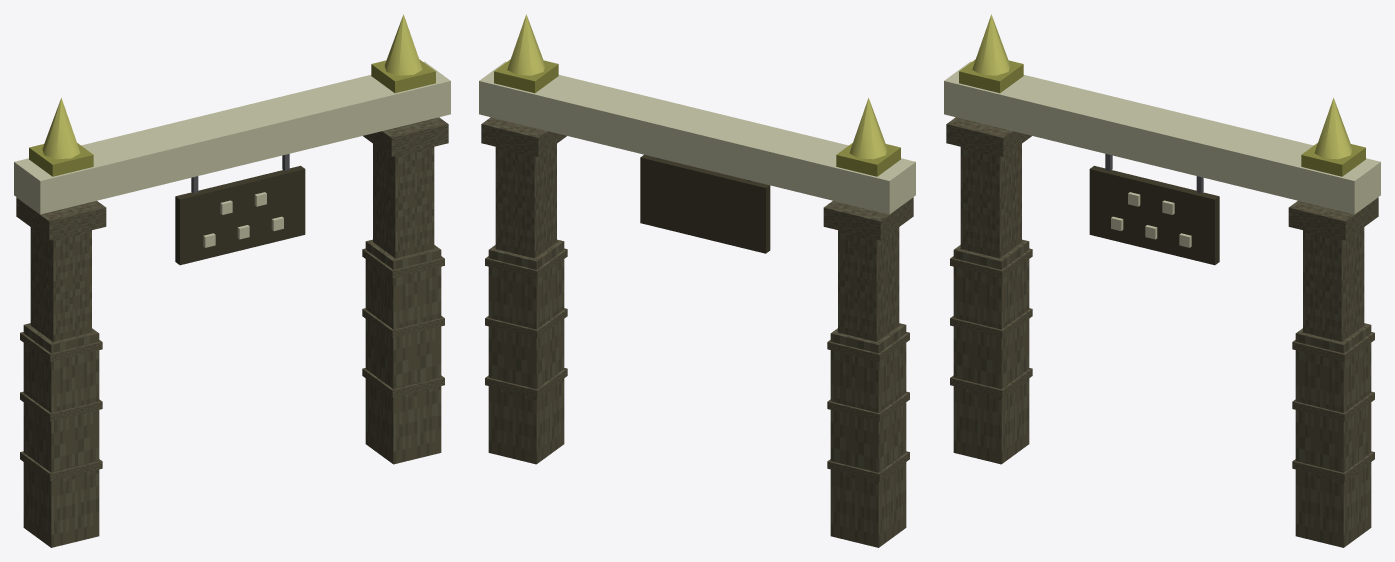
Rendered from village_gate.glb.
3 views of the same model, side by side, from view 1: azimuth 30°, elevation 25°; view 2: azimuth 150°, elevation 25°; view 3: azimuth 330°, elevation 25° (orthographic).
Parts seen in each view (by area): view 1: gate3_0, gate3_3, gate3_4, gate3_2, gate3_1; view 2: gate3_0, gate3_3, gate3_4, gate3_2, gate3_1; view 3: gate3_0, gate3_3, gate3_4, gate3_2, gate3_1.
Part boxes in pixels (left/top/right/bottom): gate3_0: left=16, top=117, right=448, bottom=547; gate3_3: left=14, top=61, right=450, bottom=247; gate3_4: left=175, top=165, right=305, bottom=265; gate3_2: left=42, top=14, right=422, bottom=159; gate3_1: left=29, top=59, right=435, bottom=176; gate3_0: left=481, top=117, right=913, bottom=547; gate3_3: left=479, top=61, right=915, bottom=214; gate3_4: left=640, top=154, right=770, bottom=253; gate3_2: left=507, top=14, right=887, bottom=159; gate3_1: left=494, top=59, right=900, bottom=176; gate3_0: left=946, top=117, right=1378, bottom=547; gate3_3: left=944, top=61, right=1380, bottom=247; gate3_4: left=1089, top=165, right=1219, bottom=265; gate3_2: left=972, top=14, right=1352, bottom=159; gate3_1: left=959, top=59, right=1365, bottom=176.
Size of the model in its own units: 3.6 by 3.64 by 0.5.
2 materials, 2 textured.
